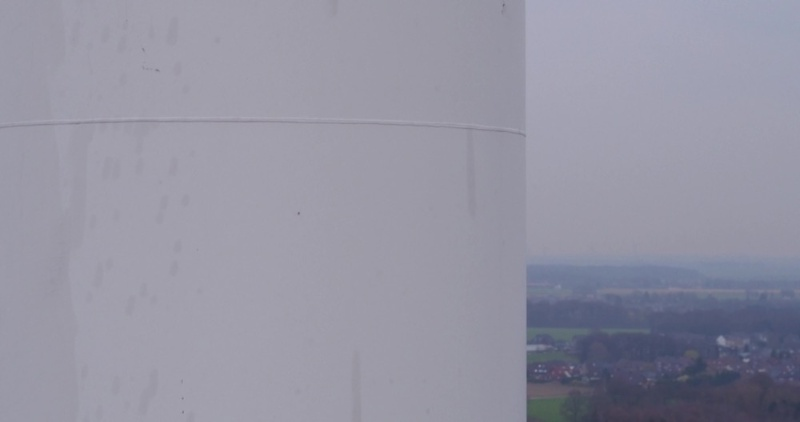weldseam: (1, 112, 530, 142)
